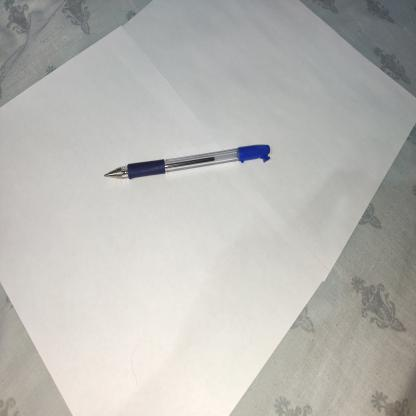Pen: (104, 124, 288, 188)
